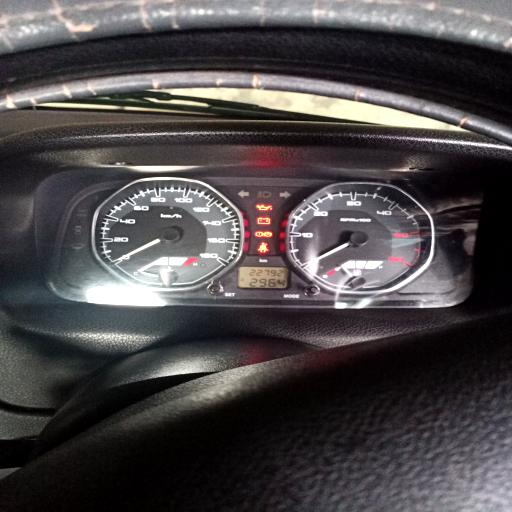belt: (257, 242, 269, 253)
oil: (254, 204, 272, 212)
tachometer: (288, 182, 435, 292)
vehicle_charging: (256, 216, 272, 224)
